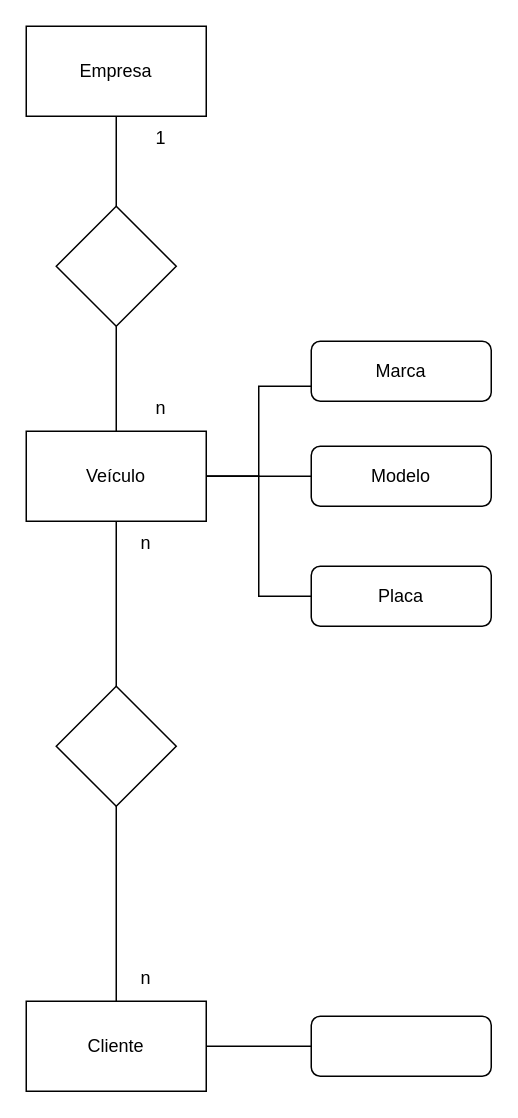
Image size: 518x1118. Some labels were removed from this diagram. Here are the shapes that lost their labels. From the top down, the centre of each, then its label:
At pixel 115 265: "Possui".
At pixel 115 745: "Aluga".
At pixel 400 1045: "Cpf".
